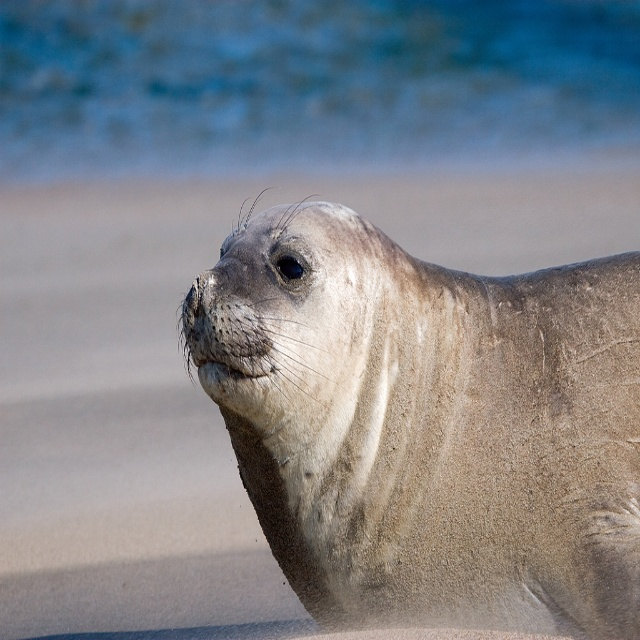Harbor seal: (173, 187, 640, 639)
